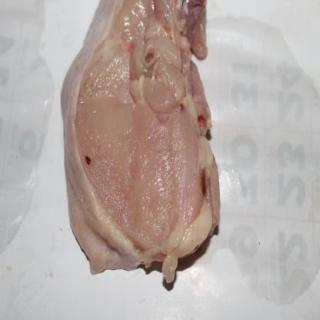Ayam: (64, 1, 221, 276)
